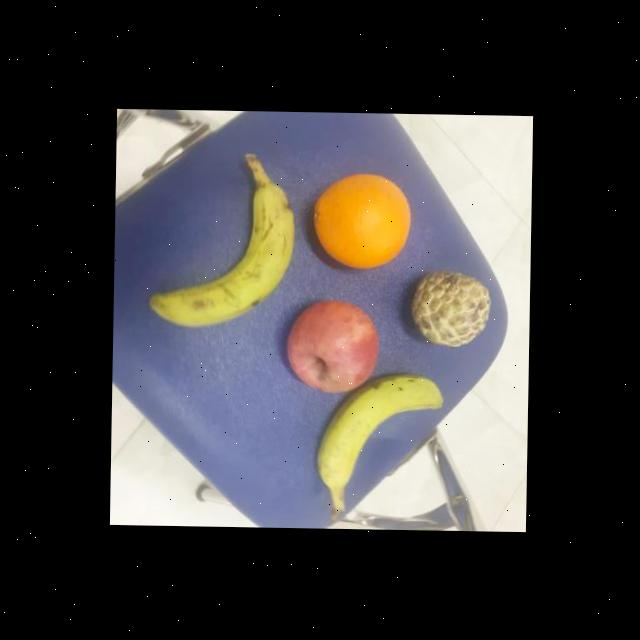Sakya fruit: (408, 268, 491, 348)
apple: (282, 298, 378, 394)
banana: (143, 175, 294, 334), (314, 372, 448, 511)
orange: (308, 172, 411, 272)
